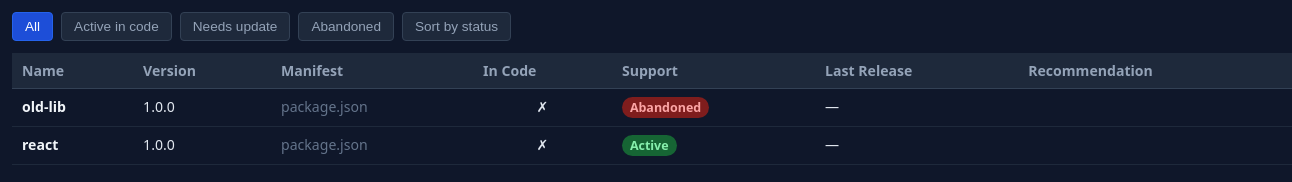
Test: TechnologyTable › filters to only abandoned technologies
Click the button "Abandoned" at [346, 26], box [298,12,394,41]
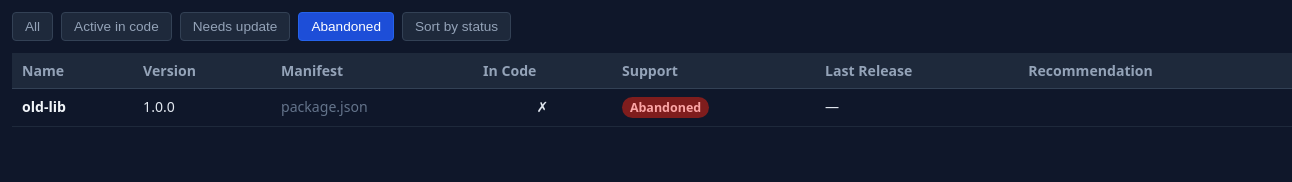
Expected: the text "old-lib" is shown, [12,88,133,126]
Result: the text "react" is gone
